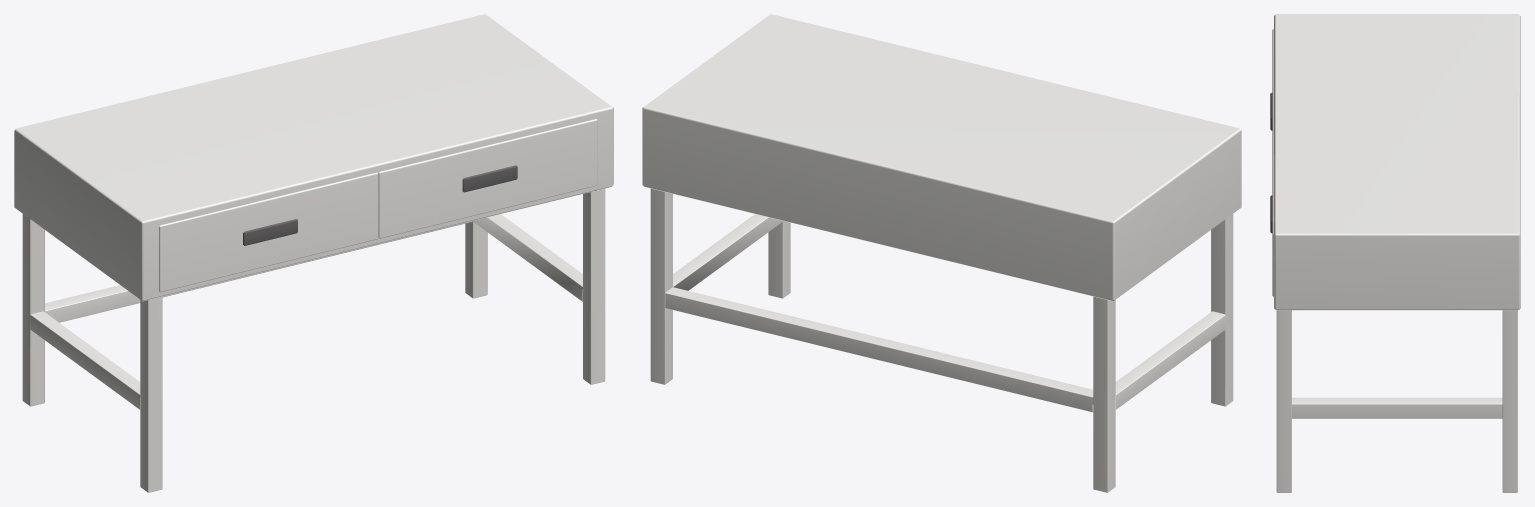
Rendered from Table_10.glb.
3 views of the same model, side by side, from view 1: azimuth 30°, elevation 25°; view 2: azimuth 150°, elevation 25°; view 3: azimuth 270°, elevation 25° (orthographic). The views are drawn at different scales.
Parts seen in each view (by area): view 1: Table_10; view 2: Table_10; view 3: Table_10.
Boxes of the visible parts, left/top/right/bottom form: Table_10: left=14, top=14, right=613, bottom=492; Table_10: left=642, top=14, right=1241, bottom=492; Table_10: left=1270, top=14, right=1520, bottom=492.
Bounding box in the file's own units: 1.52 × 0.8431 × 0.7279.
Materials: 1 (1 with a texture image).
